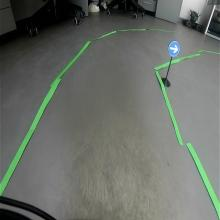right: (167, 40, 180, 58)
